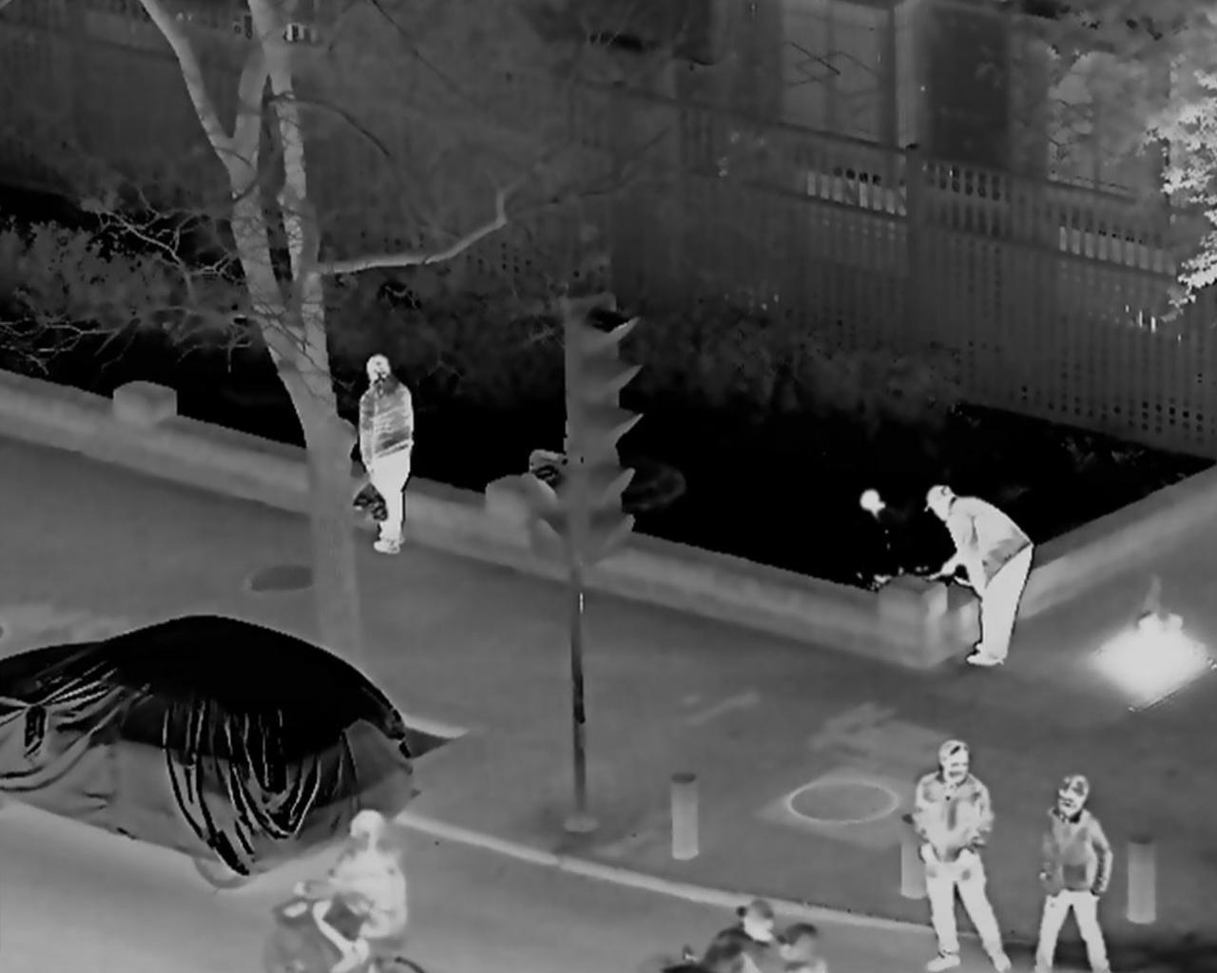person: (906, 737, 1014, 971), (293, 806, 413, 969), (926, 481, 1031, 664), (1027, 773, 1117, 973), (355, 353, 418, 550)
